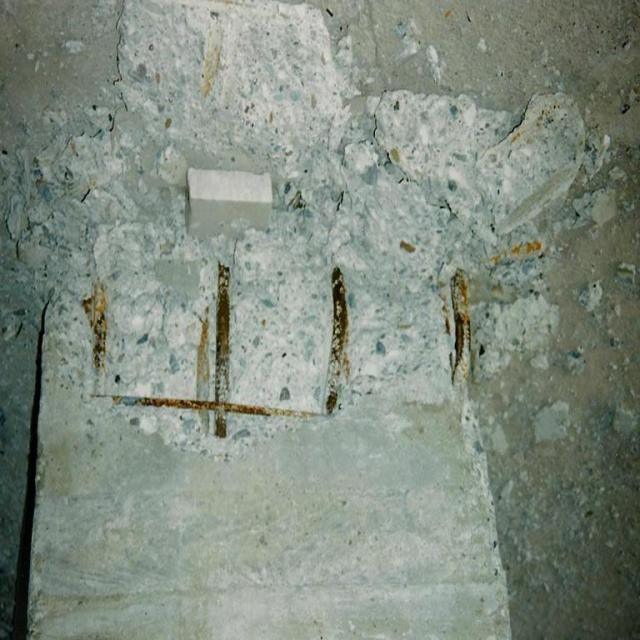Rebar: (56, 264, 472, 455)
